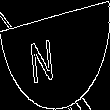N_N: (41, 26, 69, 84)
